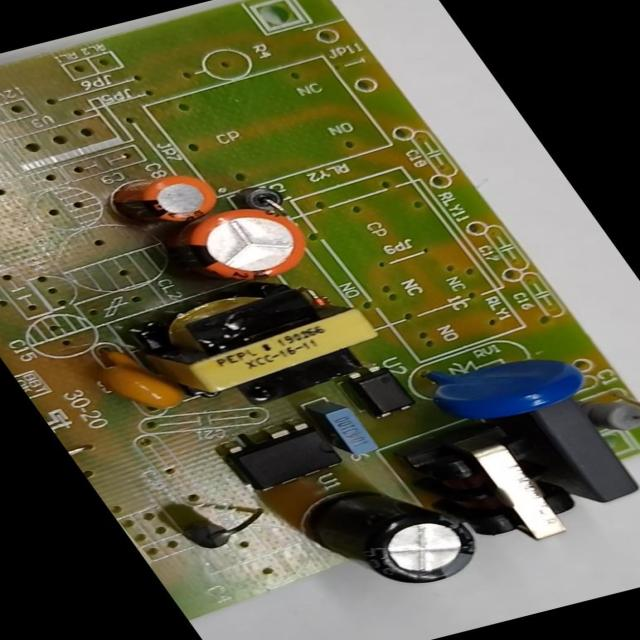Cap1: (161, 201, 320, 291)
Cap2: (103, 165, 225, 232)
Cap3: (293, 476, 494, 600)
MOSFET: (225, 420, 349, 490)
Mov: (426, 349, 594, 428)
Resistor: (586, 390, 639, 433)
Transformer: (110, 268, 396, 416), (420, 434, 594, 550)
